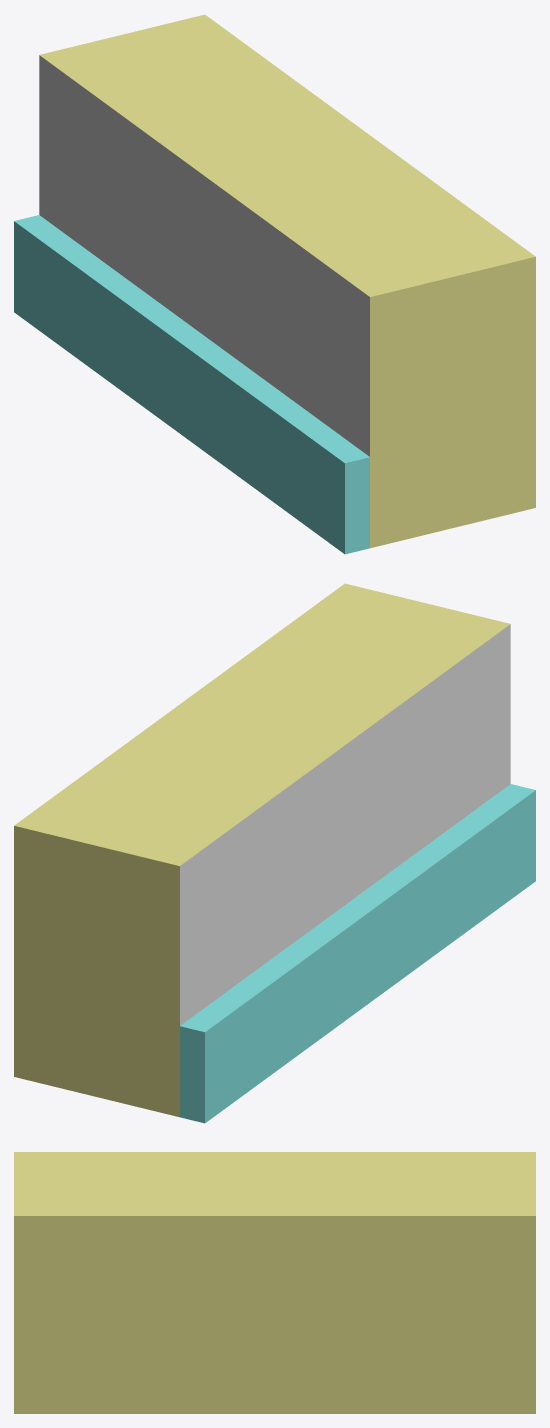
Rendered from LedgeStrafe.fbx.
The picture shows the model from 3 angles, top to bottom: view 1: azimuth 30°, elevation 25°; view 2: azimuth 150°, elevation 25°; view 3: azimuth 270°, elevation 25°; orthographic projection. The views are drawn at different scales.
Visible parts, largest first — view 1: LedgeStrafe, LedgeStrafe2; view 2: LedgeStrafe, LedgeStrafe2; view 3: LedgeStrafe.
Part boxes in pixels (bbox=[...]): LedgeStrafe: bbox=[39, 14, 535, 548]; LedgeStrafe2: bbox=[14, 215, 369, 554]; LedgeStrafe: bbox=[14, 583, 510, 1117]; LedgeStrafe2: bbox=[180, 784, 535, 1123]; LedgeStrafe: bbox=[14, 1152, 535, 1413].
Size of the model in its own units: 2.5 by 3.14 by 7.5.
